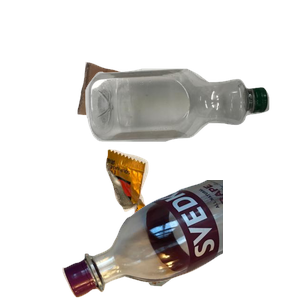cardboard: (75, 59, 237, 176)
glass: (60, 180, 300, 300)
plastic: (83, 66, 300, 201)
trash: (103, 147, 300, 300)
